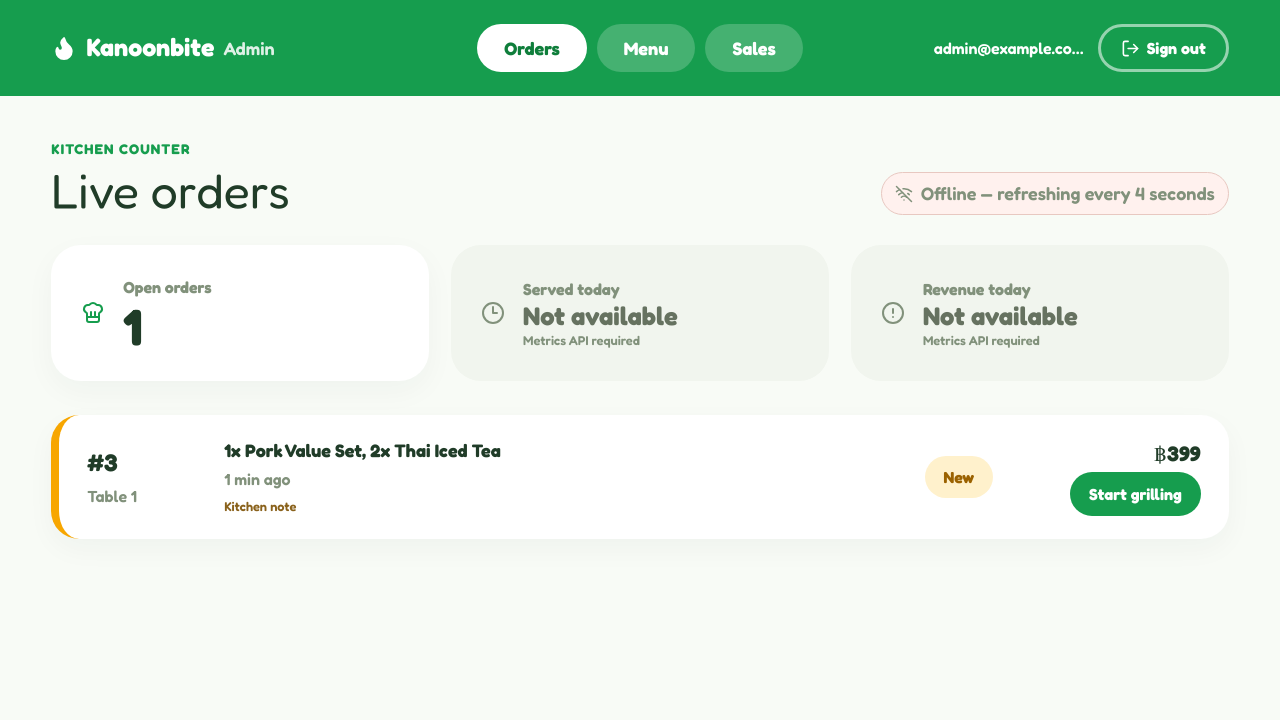
Test case: admin backoffice › reconciles immediately when the update response fails after the status was committed
What coordinates should you click on to do the following:
click the button "Start grilling"
I would click on:
 (1135, 494)
Its box is left=1070, top=472, right=1201, bottom=516.
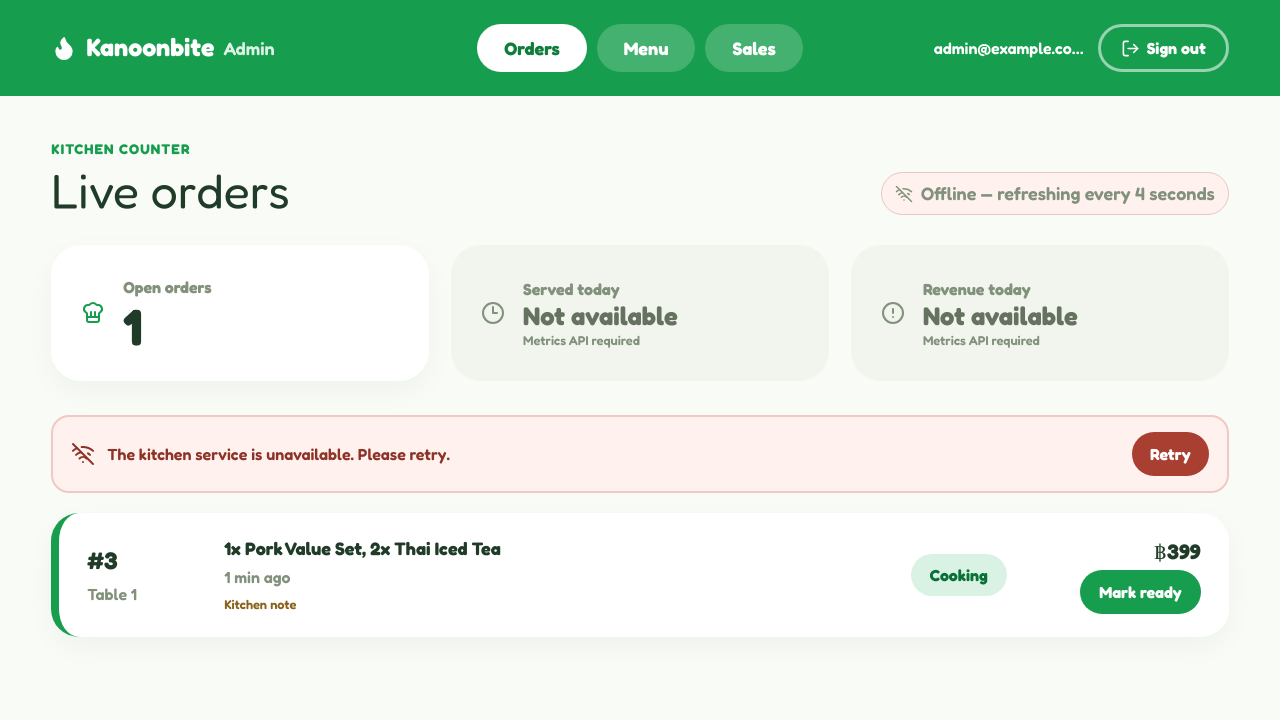
Expected: the button "Mark ready" is enabled, left=1080, top=570, right=1201, bottom=614
Now the message "The kitchen service is unavailable. Please retry. Retry" is shown, box left=51, top=415, right=1229, bottom=493
Now the text "Cooking" is shown, box left=911, top=554, right=1007, bottom=596
